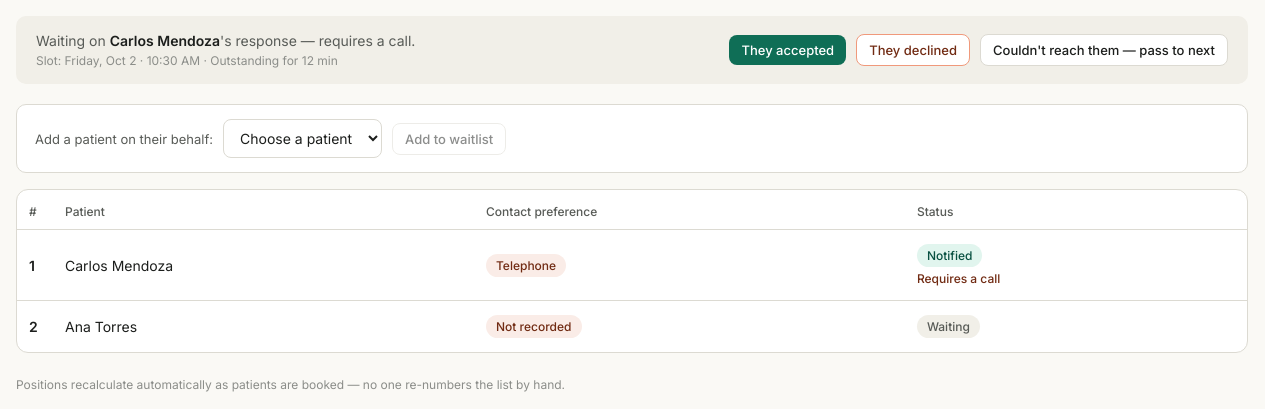
it: staff waitlist view › the slot control follows the holder (5.5) › records a decline in one click and offers the returned slot for release again
The image size is (1265, 409).
Click the button "They declined" at (913,50), box [856,34,970,66]
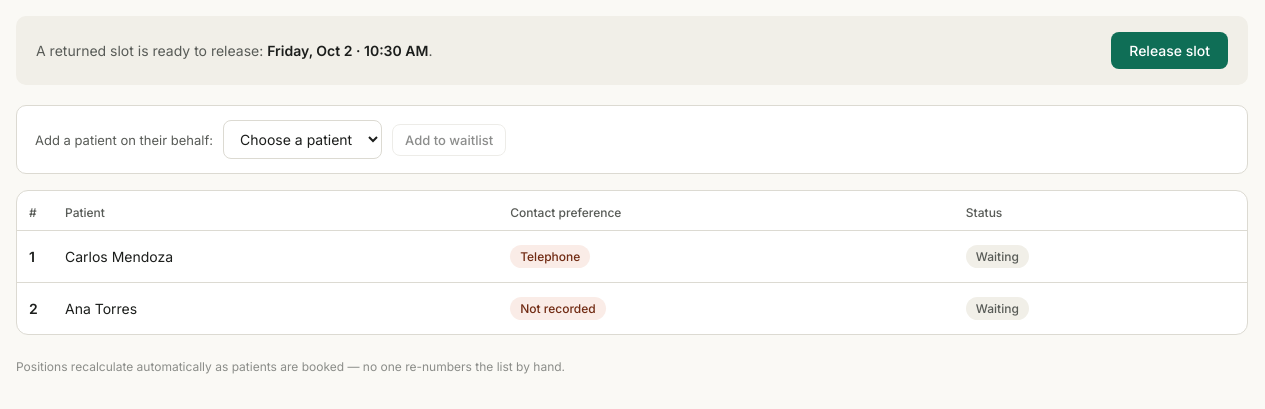
Expected: the text "A returned slot is ready to release" is shown, [36,42,267,59]
Expected: the button "Release slot" is shown, [1111,32,1228,69]
